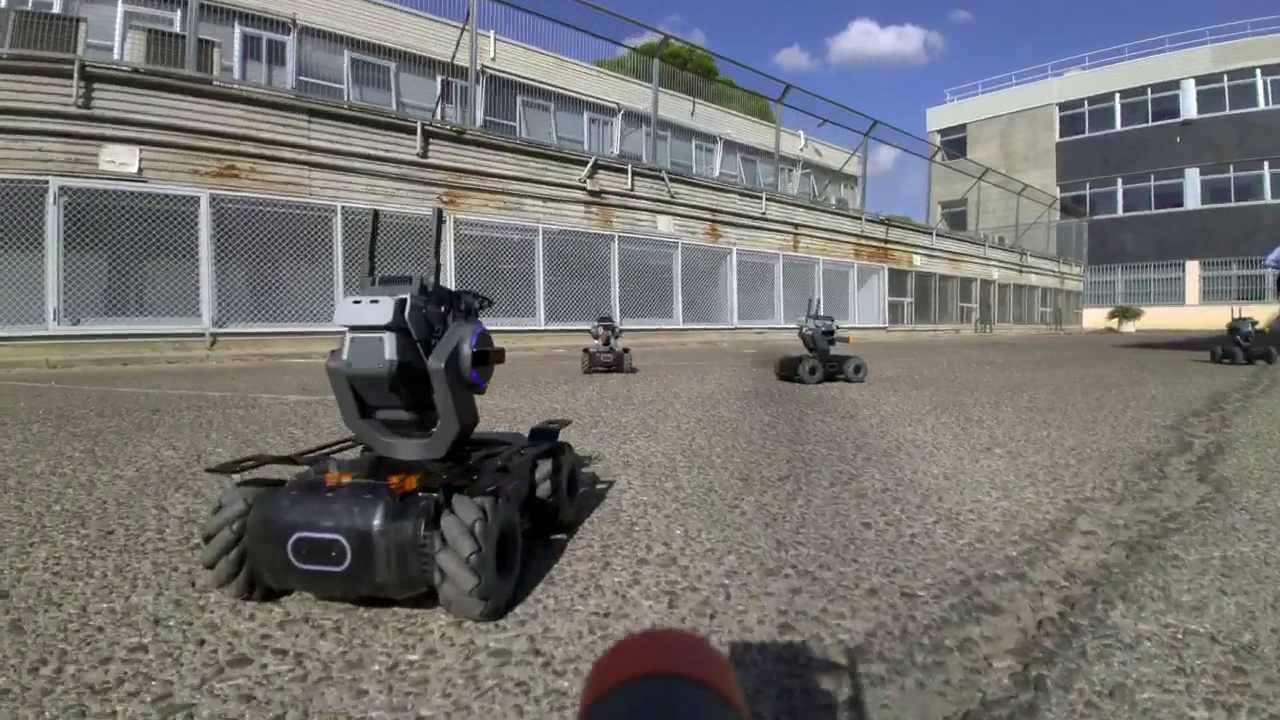robot: (199, 200, 592, 624), (774, 294, 869, 384), (1211, 298, 1272, 366), (580, 310, 632, 374)
